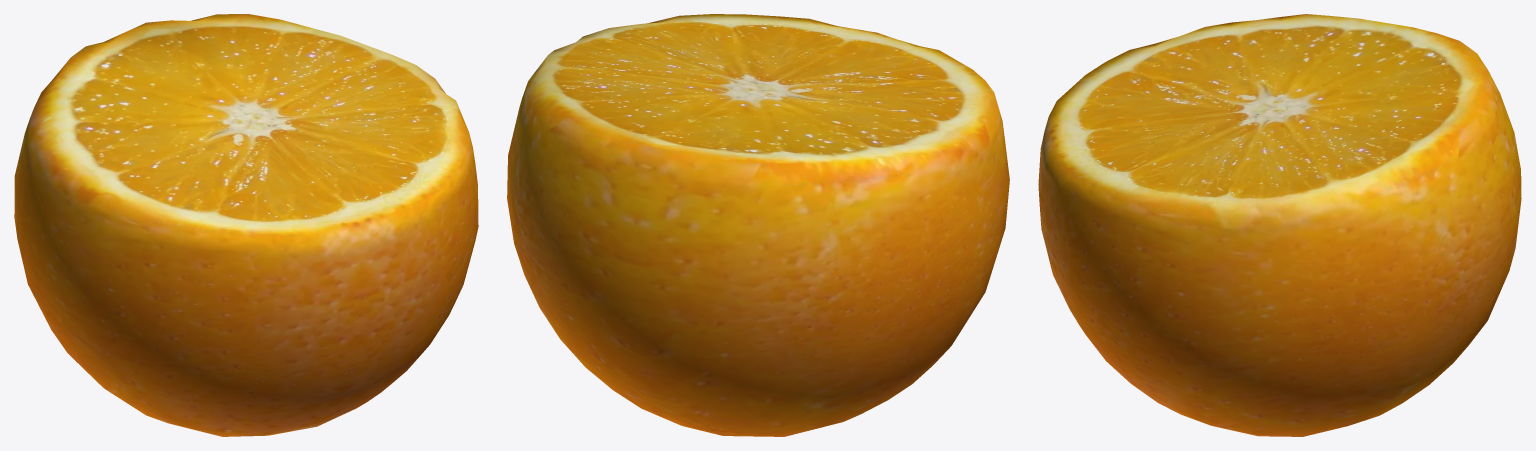
File: clementine-1.glb
3 renders of one model, left to right at view 1: azimuth 30°, elevation 25°; view 2: azimuth 150°, elevation 25°; view 3: azimuth 270°, elevation 25°, orthographic. The views are drawn at different scales.
Parts seen in each view (by area): view 1: Object_2; view 2: Object_2; view 3: Object_2.
Boxes of the visible parts, box(x1,y1,x2,y2) form: Object_2: box(14, 14, 478, 436); Object_2: box(507, 14, 1009, 436); Object_2: box(1038, 14, 1521, 436).
Size of the model in its own units: 27.8 by 21.09 by 27.78.
1 material, 1 textured.
